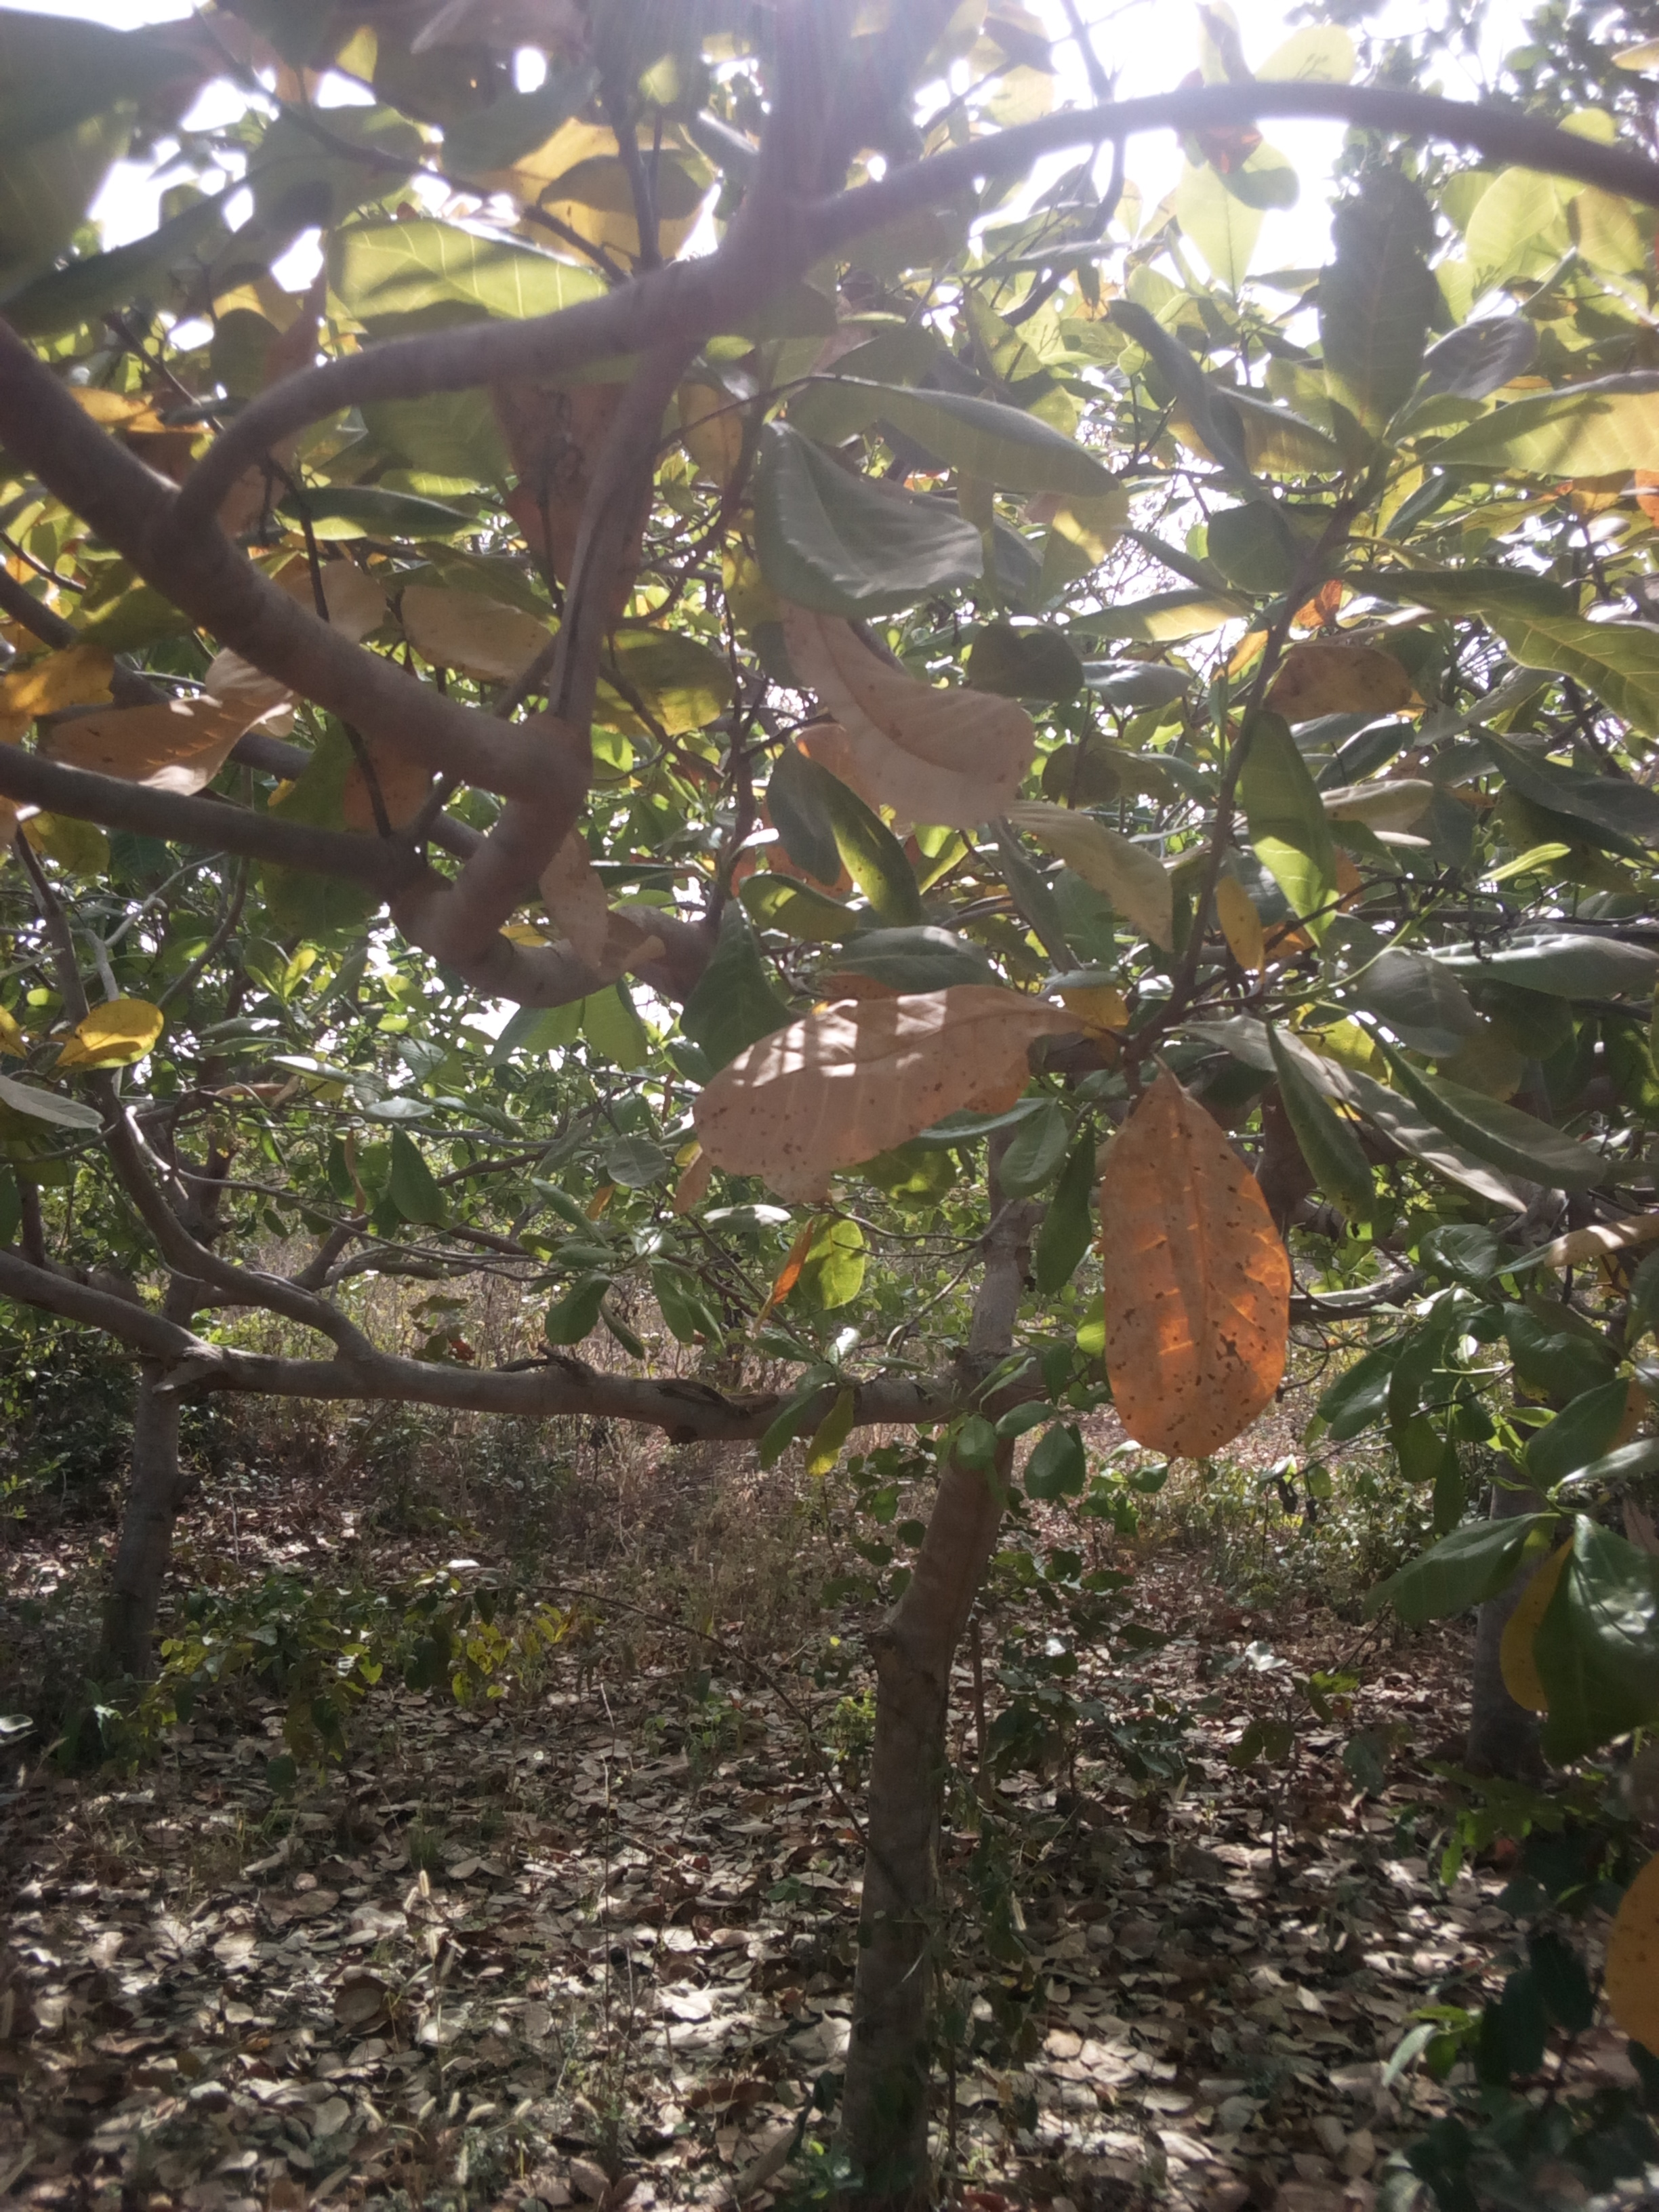Anthracnose: (694, 977, 1066, 1195), (1091, 1075, 1290, 1458)
